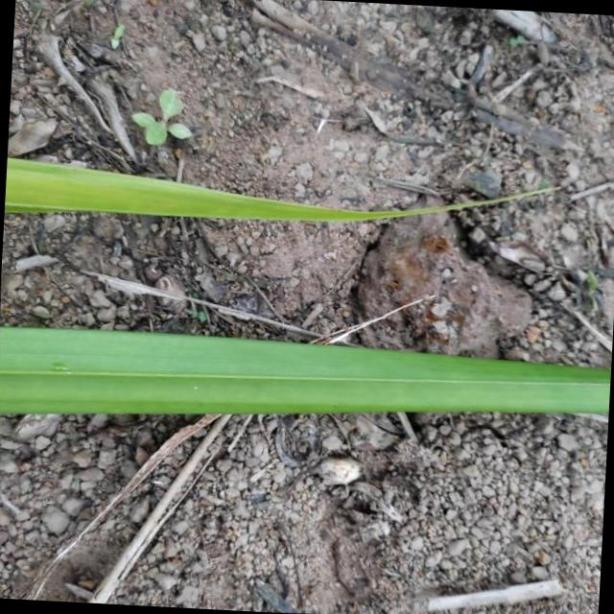nitrogen: (1, 320, 614, 416), (3, 151, 568, 226)
